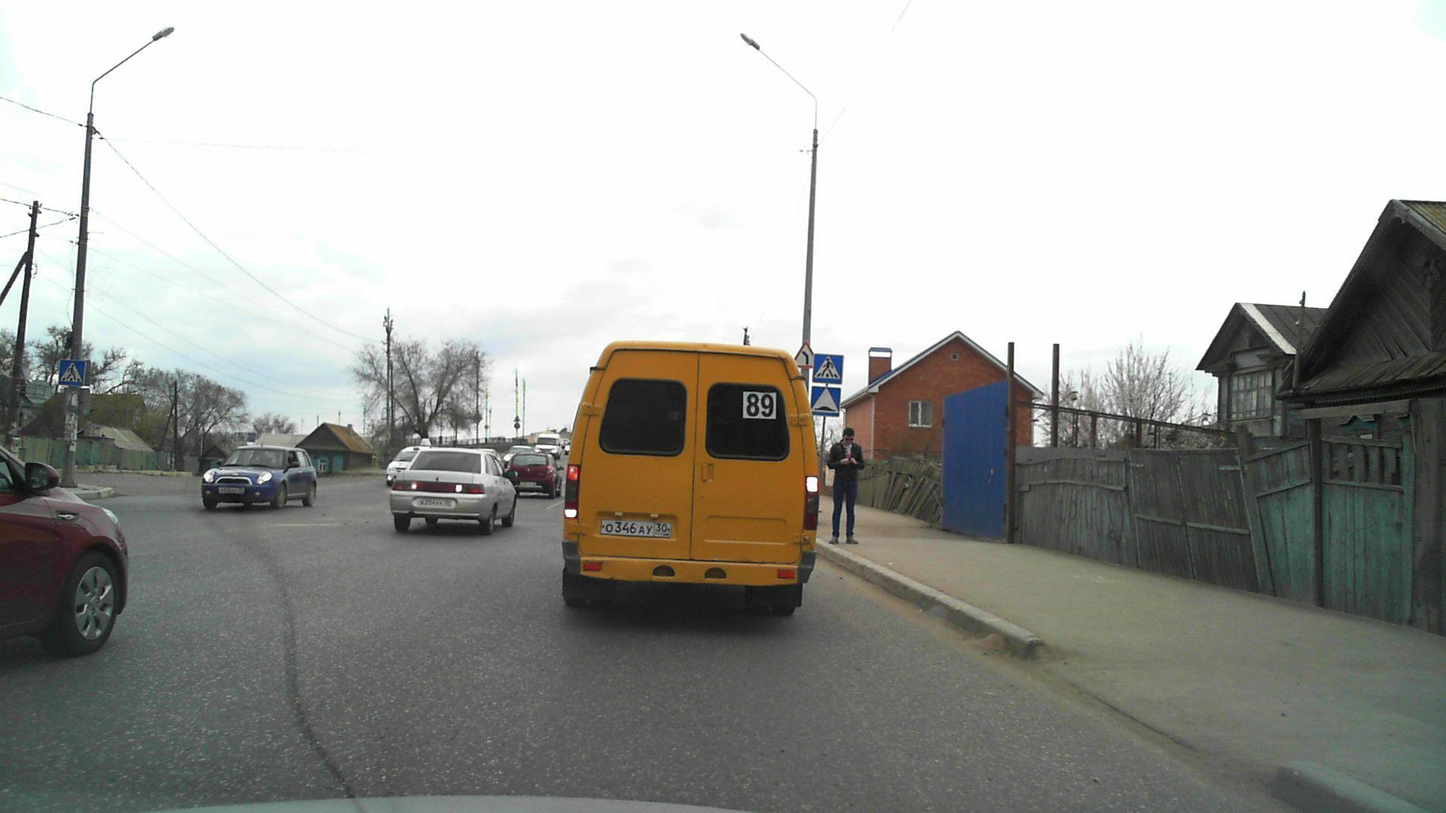obstructed_road_sign: (794, 341, 815, 367)
road_sign: (810, 386, 842, 417), (812, 354, 844, 384), (59, 359, 87, 386)
